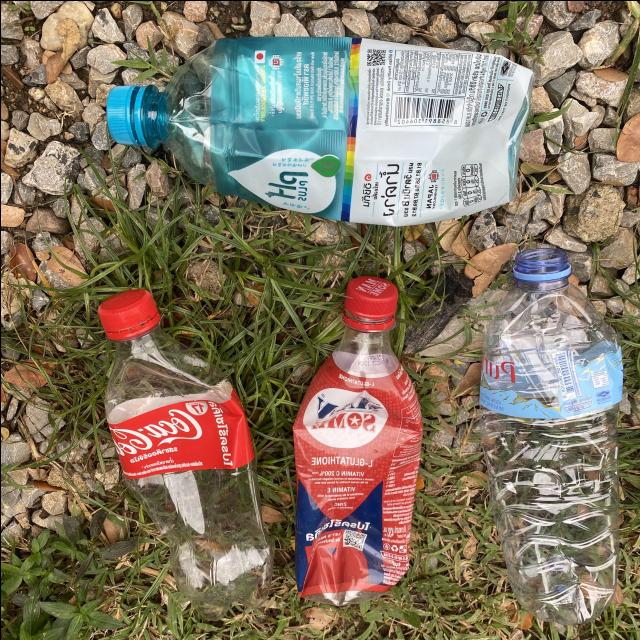plastik: (105, 36, 531, 225), (97, 289, 272, 619), (479, 247, 622, 624), (292, 276, 421, 604)
